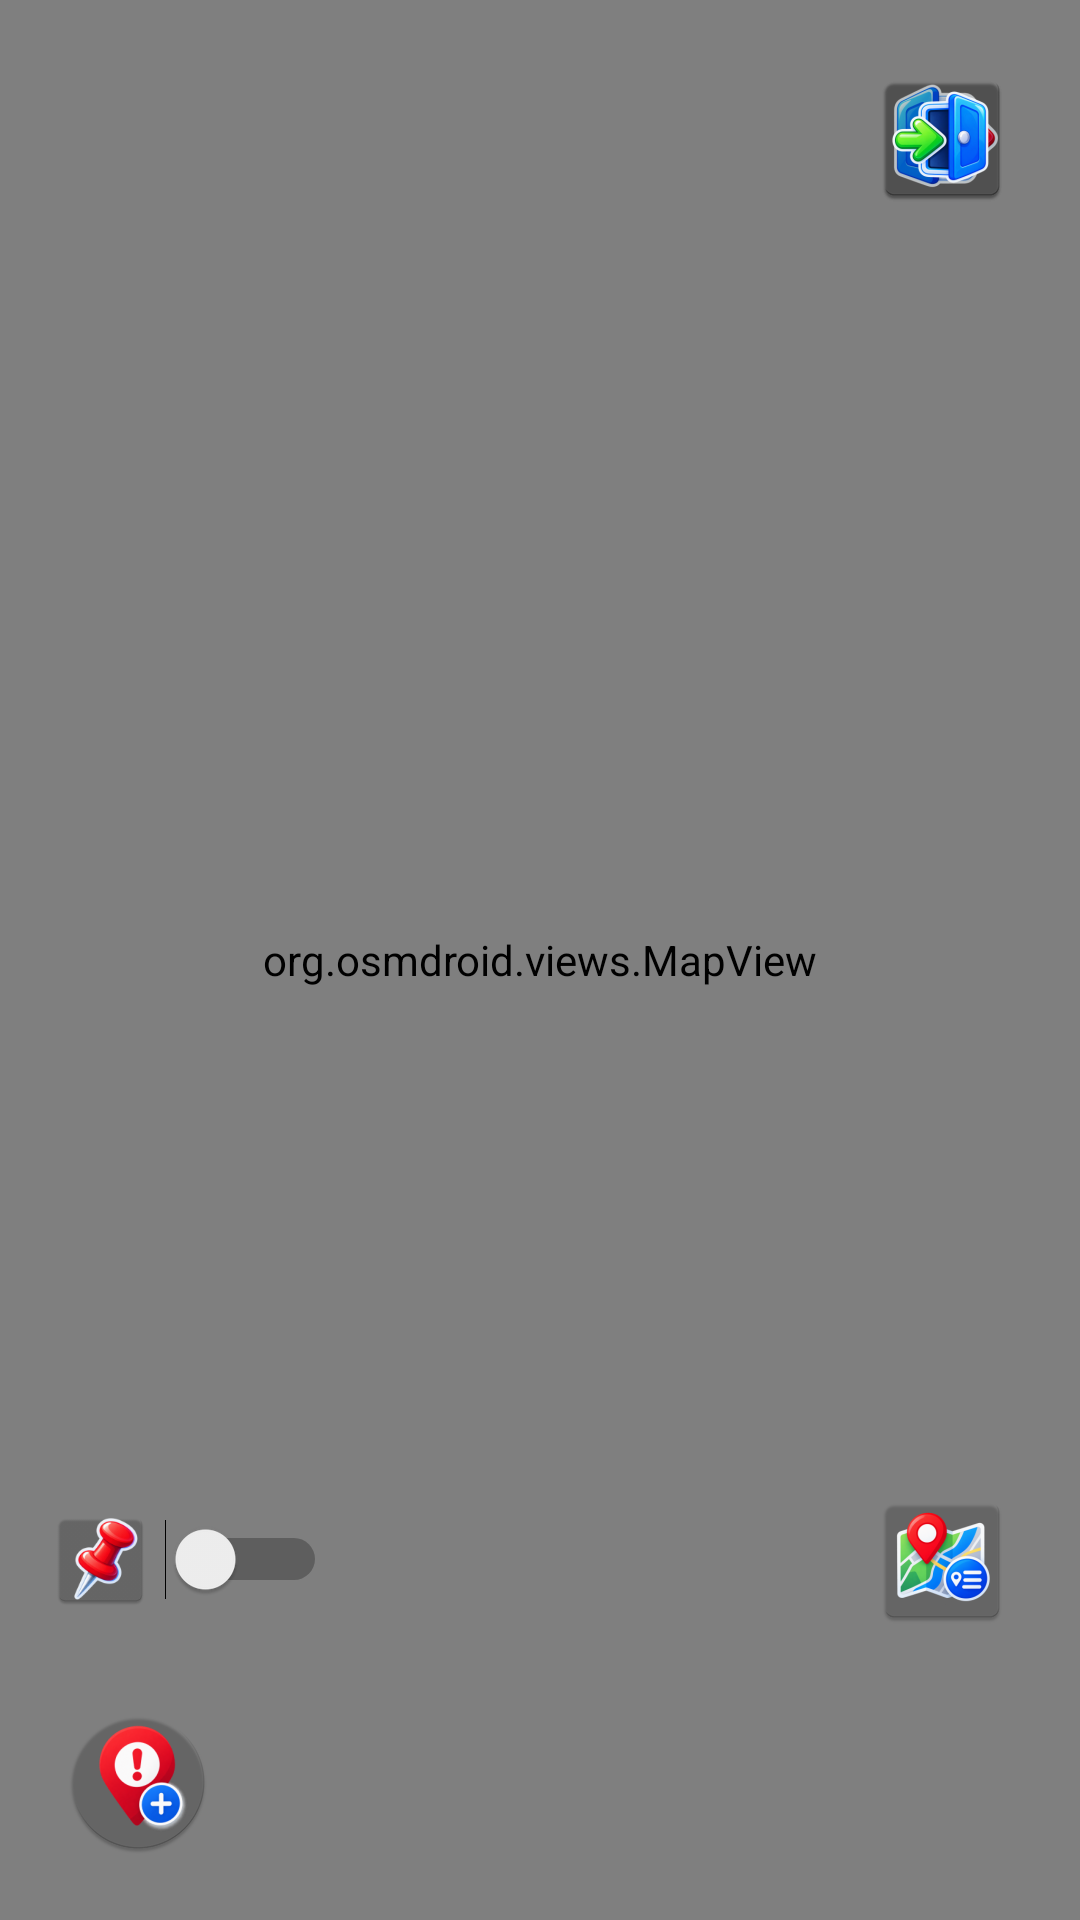

Named icons in this screenshot (1080 × 1920) and their centers, (x,y):
Adicionar alerta: (139,1785)
Adicionar alerta em qualquer lugar: (101,1560)
Adicionar por coordenada: (942,1563)
